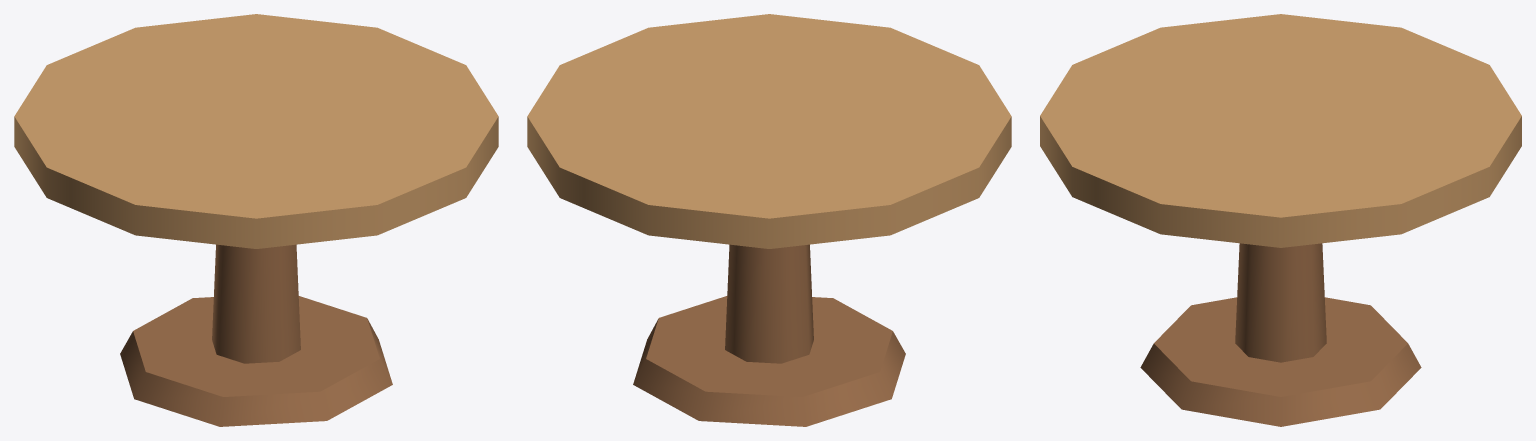
The model's file is table.glb.
3 views of the same model, side by side, from view 1: azimuth 30°, elevation 25°; view 2: azimuth 150°, elevation 25°; view 3: azimuth 270°, elevation 25° (orthographic).
Bounding box in the file's own units: 1.44 × 0.83 × 1.44.
